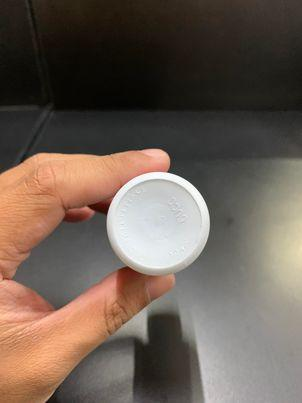-Bottle-: (106, 171, 211, 276)
